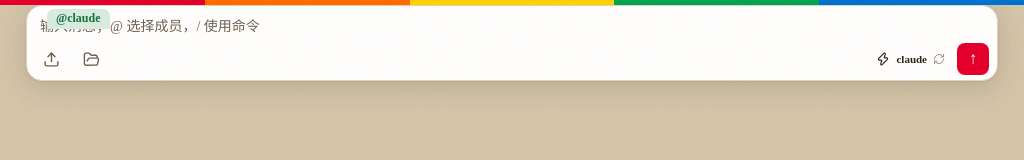
it: 频道文件选择的公开 Composer 反馈 › renders a picker rejection in the Composer alert rail
The width and height of the screenshot is (1024, 160).
Click the button named "从频道文件选择".
click(91, 59)  # box [75,43,107,75]
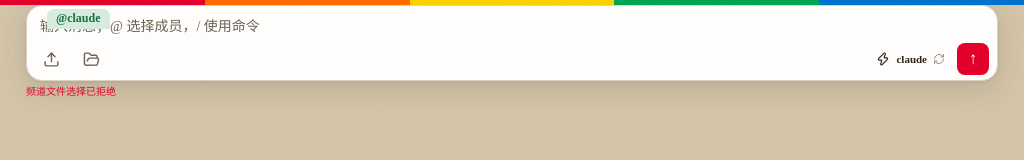
Now the message "频道文件选择已拒绝" is shown, box [26,86,116,97]
